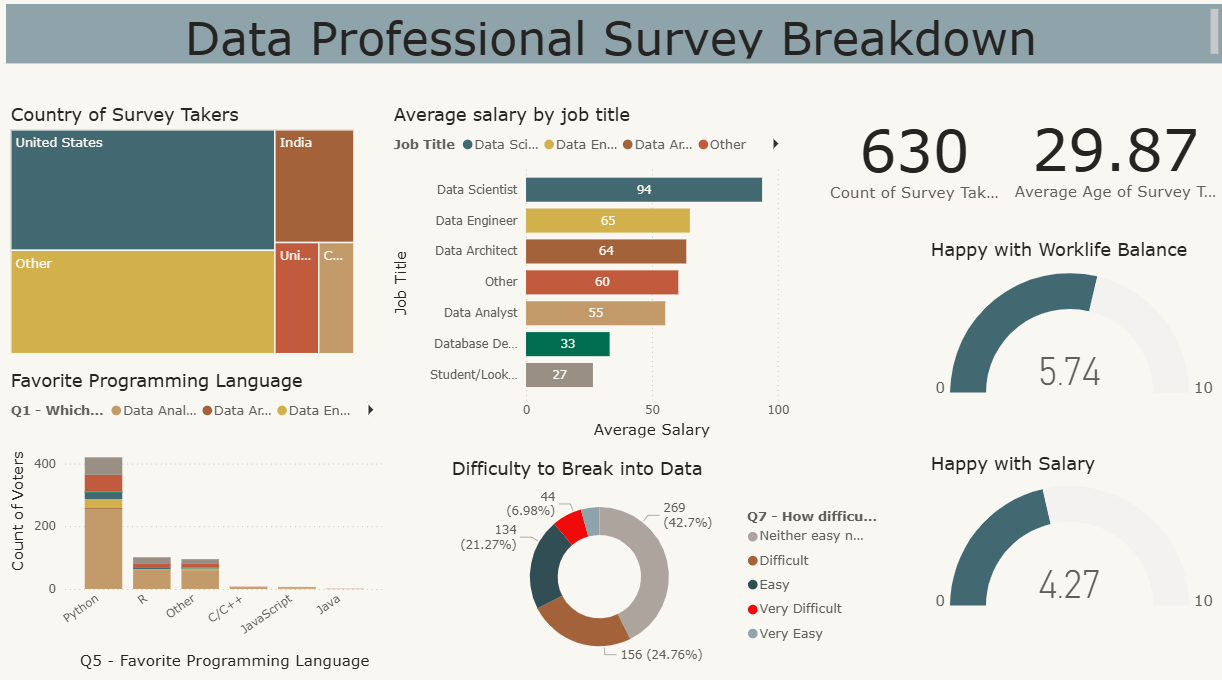

What the dashboard file says about the page in this screenshot:
{"tool":"powerbi","page":{"name":"Page 1","canvas":[1280,720],"ordinal":0},"visuals":[{"type":"textbox","box":[10.3,9.1,1270.3,61.5],"z":0},{"type":"card","fields":{"Values":["Count(Data Professional Survey.Unique ID)"]},"box":[861.3,116.2,194.8,104.8],"z":1000},{"type":"card","fields":{"Values":["Avg(Data Professional Survey.Q10 - Current Age)"]},"box":[1056.1,112.8,224.4,108.2],"z":2000},{"type":"barChart","title":"Average salary by job title","fields":{"Category":["Data Professional Survey.Q1 - Which Title Best Fits your Current Role?.1"],"Y":["Avg(Data Professional Survey.Average Salary)"],"Series":["Data Professional Survey.Q1 - Which Title Best Fits your Current Role?.1"]},"box":[410.1,112.8,422.7,354.3],"z":3000},{"type":"columnChart","title":" Favorite Programming Language","fields":{"Category":["Data Professional Survey.Q5 - Favorite Programming Language.1"],"Y":["CountNonNull(Data Professional Survey.Unique ID)"],"Series":["Data Professional Survey.Q1 - Which Title Best Fits your Current Role?.1"]},"box":[10.3,390.8,399.9,317.8],"z":4000},{"type":"treemap","title":"Country of Survey Takers","fields":{"Group":["Data Professional Survey.Q11 - Which Country do you live in?.1"],"Values":["CountNonNull(Data Professional Survey.Q11 - Which Country do you live in?.1)"]},"box":[10.3,112.8,368,266.6],"z":5000},{"type":"gauge","title":"Happy with Salary","fields":{"Y":["Avg(Data Professional Survey.Q6 - How Happy are you in your Current Position with the following? (Salary))"],"MinValue":["Min(Data Professional Survey.Q6 - How Happy are you in your Current Position with the following? (Salary))"],"MaxValue":["Max(Data Professional Survey.Q6 - How Happy are you in your Current Position with the following? (Salary))"]},"box":[970.6,477.3,309.9,177.7],"z":6000},{"type":"gauge","title":"Happy  with Worklife Balance","fields":{"Y":["Avg(Data Professional Survey.Q6 - How Happy are you in your Current Position with the following? (Work/Life Balance))"],"MinValue":["Min(Data Professional Survey.Q6 - How Happy are you in your Current Position with the following? (Work/Life Balance))"],"MaxValue":["Max(Data Professional Survey.Q6 - How Happy are you in your Current Position with the following? (Work/Life Balance))1"]},"box":[970.6,254.1,309.9,180],"z":7000},{"type":"donutChart","title":"Difficulty to Break into Data","fields":{"Category":["Data Professional Survey.Q7 - How difficult was it for you to break into Data?"],"Y":["CountNonNull(Data Professional Survey.Q7 - How difficult was it for you to break into Data?)"],"Series":["Data Professional Survey.Q7 - How difficult was it for you to break into Data?"]},"box":[470.5,481.9,450,226.7],"z":8000}]}

Visuals, with their boxes in screenshot pixels (x1, y1, x2, y2), scaled from the page's 1280x720 canvas onto the 1222x680 screenshot:
textbox: pyautogui.locateOnScreen(10, 9, 1221, 67)
card - Count(Data Professional Survey.Unique ID): pyautogui.locateOnScreen(822, 110, 1008, 209)
card - Avg(Data Professional Survey.Q10 - Current Age): pyautogui.locateOnScreen(1008, 107, 1221, 209)
"Average salary by job title" barChart: pyautogui.locateOnScreen(392, 107, 795, 441)
" Favorite Programming Language" columnChart: pyautogui.locateOnScreen(10, 369, 392, 669)
"Country of Survey Takers" treemap: pyautogui.locateOnScreen(10, 107, 361, 358)
"Happy with Salary" gauge: pyautogui.locateOnScreen(927, 451, 1221, 619)
"Happy  with Worklife Balance" gauge: pyautogui.locateOnScreen(927, 240, 1221, 410)
"Difficulty to Break into Data" donutChart: pyautogui.locateOnScreen(449, 455, 879, 669)
